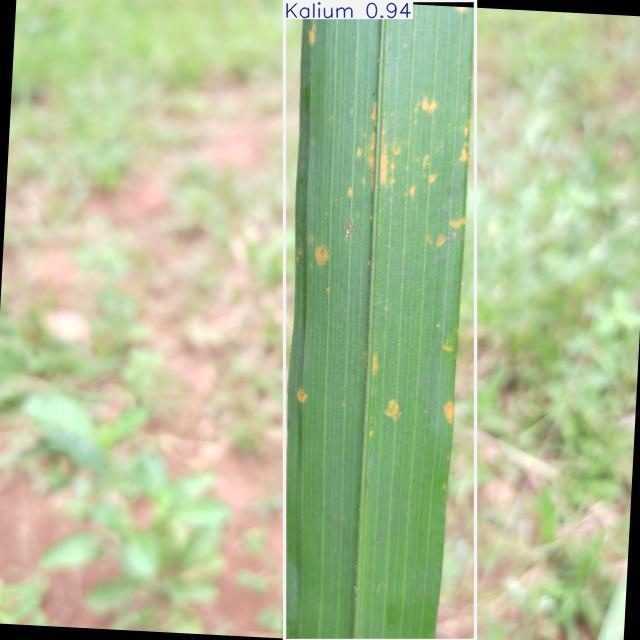Kalium: (285, 0, 475, 640)
